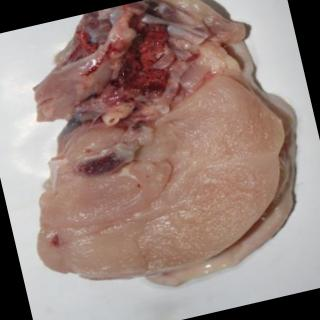Ayam: (1, 1, 320, 310)
